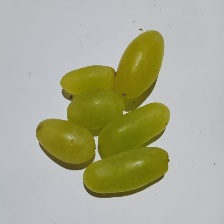grapes: (1, 33, 188, 197)
